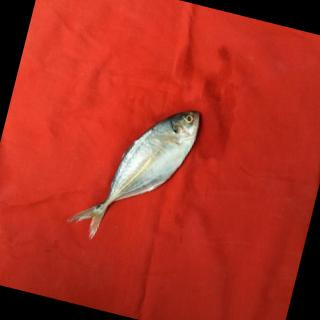Ikan: (82, 73, 217, 251)
